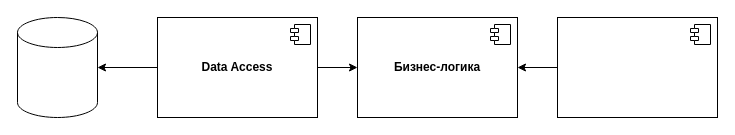
Image size: 735x135. Some labels were removed from this diagram. The centre of each missing label's shape, as x and y in pixels:
Database: (x=57, y=67)
UI: (x=637, y=67)
